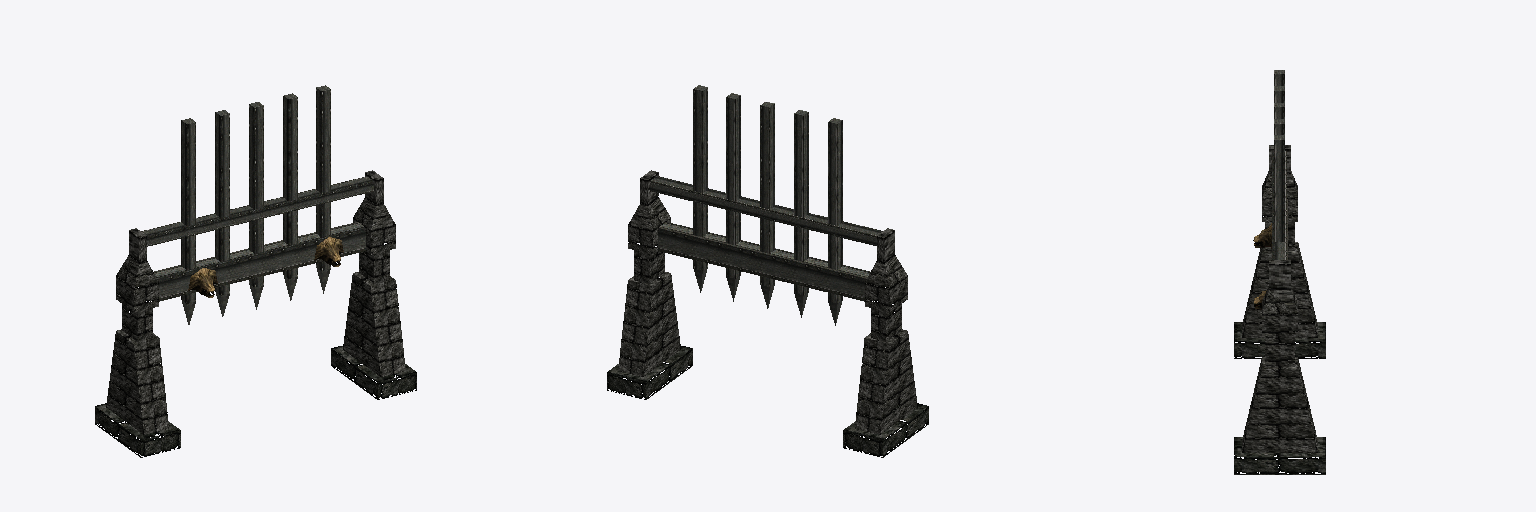
3 renders of one model, left to right at view 1: azimuth 30°, elevation 25°; view 2: azimuth 150°, elevation 25°; view 3: azimuth 270°, elevation 25°, orthographic.
Parts seen in each view (by area): view 1: Mesh_2, Mesh_0, Mesh_1, Mesh_3; view 2: Mesh_2, Mesh_0, Mesh_1; view 3: Mesh_0, Mesh_1, Mesh_2.
Part boxes in pixels (x1,y1,x2,y2): Mesh_2: (135, 85, 373, 324); Mesh_0: (106, 170, 405, 434); Mesh_1: (95, 346, 416, 457); Mesh_3: (188, 237, 343, 297); Mesh_2: (650, 85, 882, 325); Mesh_0: (618, 170, 917, 434); Mesh_1: (607, 346, 928, 457); Mesh_0: (1242, 145, 1317, 452); Mesh_1: (1234, 322, 1325, 474); Mesh_2: (1272, 70, 1287, 259).
Bounding box in the file's own units: 5.95 × 6.23 × 1.73.
4 materials, 4 textured.